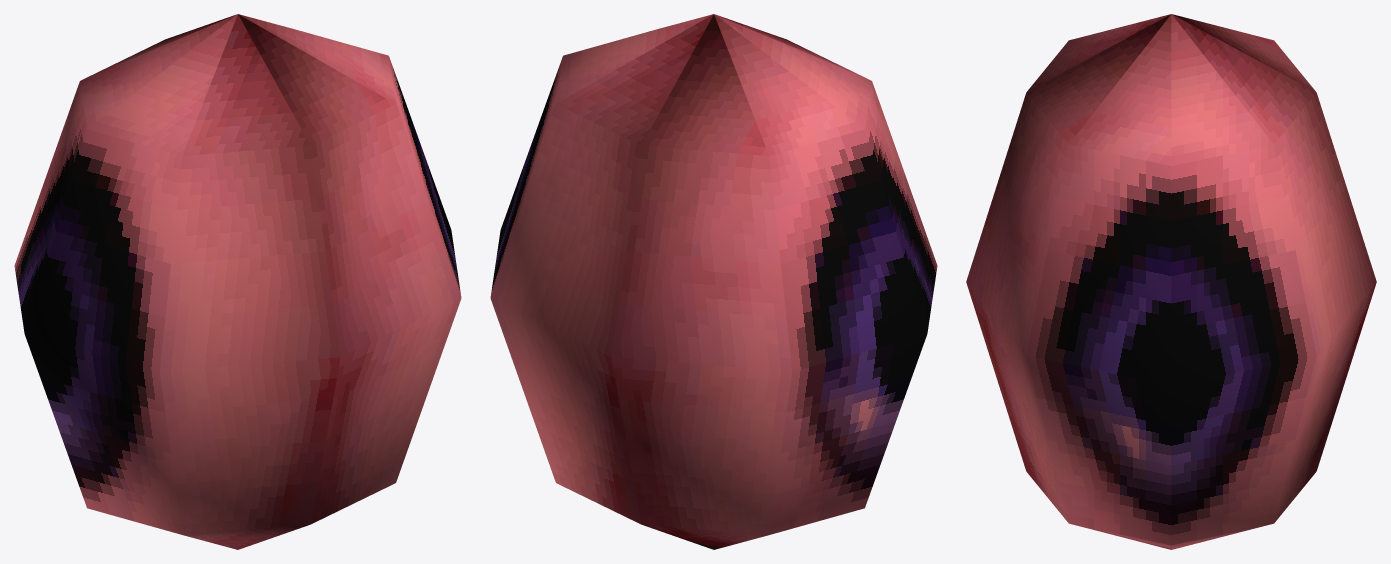
The picture shows the model from 3 angles, left to right: view 1: azimuth 30°, elevation 25°; view 2: azimuth 150°, elevation 25°; view 3: azimuth 270°, elevation 25°; orthographic projection.
Parts seen in each view (by area): view 1: Sphere_8; view 2: Sphere_8; view 3: Sphere_8.
Part boxes in pixels (<box>): Sphere_8: <box>14,14,461,549</box>; Sphere_8: <box>490,14,937,549</box>; Sphere_8: <box>966,14,1376,549</box>.
Bounding box in the file's own units: 22.36 × 26.83 × 18.63.
